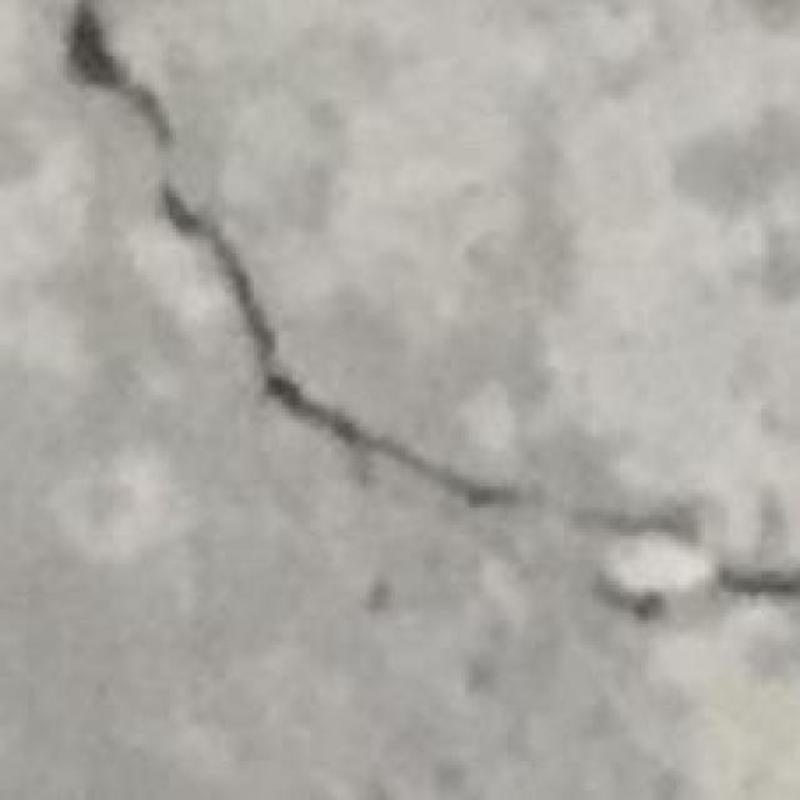crack: (68, 0, 799, 599)
